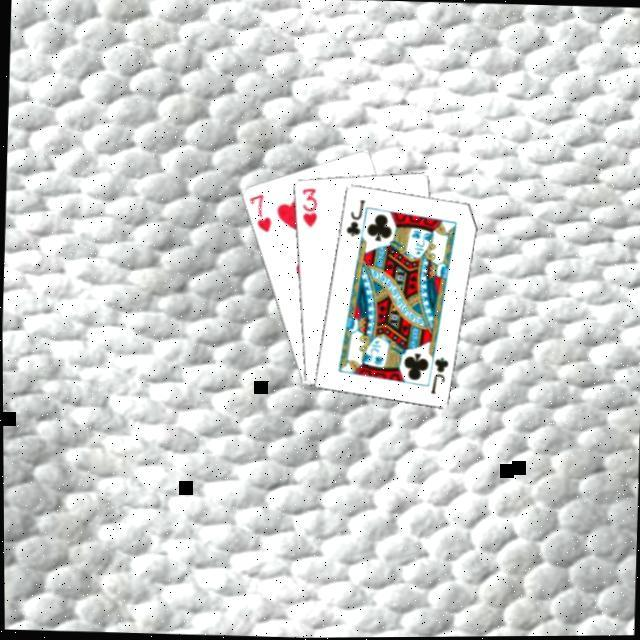3H: (296, 186, 319, 230)
7H: (243, 191, 273, 236)
JC: (340, 196, 366, 239), (426, 354, 448, 398)
